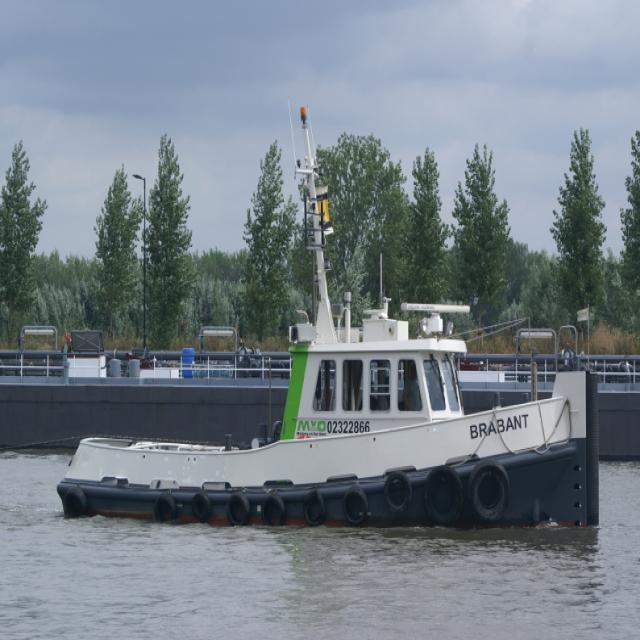tugboat: (51, 104, 604, 543)
